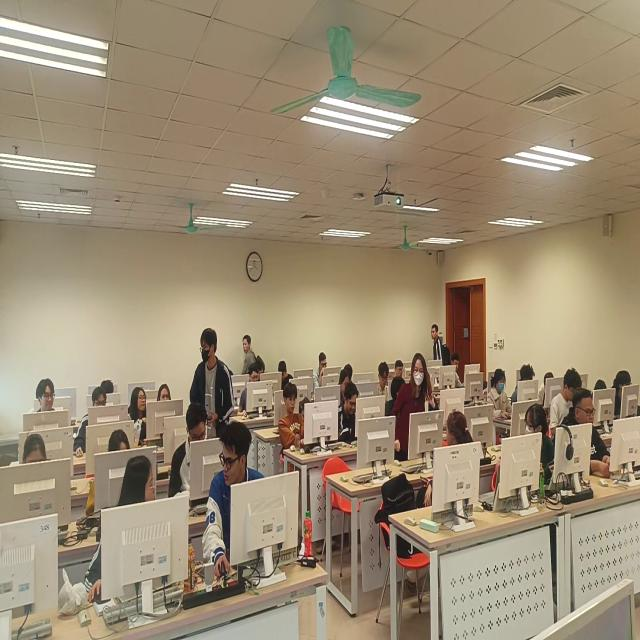raise_head: (33, 372, 62, 440), (128, 378, 153, 445), (150, 383, 175, 434)
stand: (189, 312, 234, 457), (429, 314, 454, 409), (242, 328, 256, 410)
using_computer: (557, 387, 640, 482), (279, 381, 340, 462), (169, 401, 211, 516), (16, 425, 49, 520), (73, 381, 109, 458), (97, 416, 131, 489), (551, 365, 581, 434), (486, 363, 517, 426), (237, 360, 265, 420), (612, 357, 640, 415), (339, 384, 360, 455), (595, 362, 615, 429), (514, 358, 536, 411), (312, 352, 332, 401), (448, 352, 469, 394), (374, 360, 392, 408), (540, 365, 559, 408), (392, 353, 407, 405), (277, 358, 294, 397), (336, 365, 351, 401), (101, 370, 115, 408), (346, 364, 356, 385)
